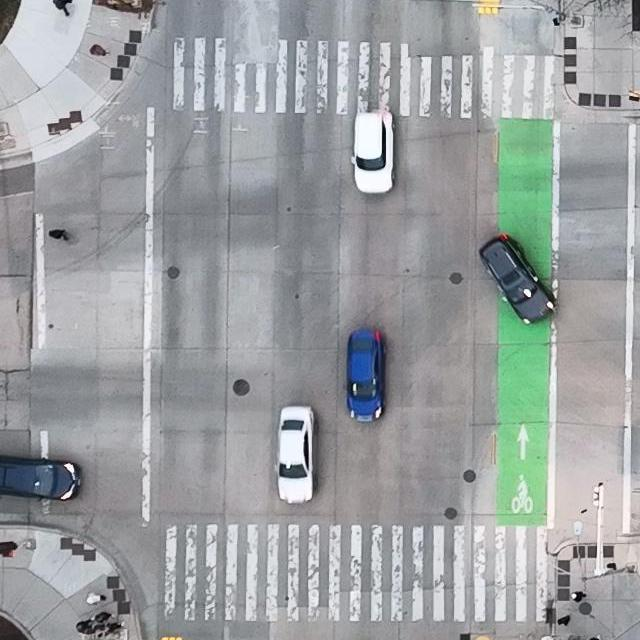car: (478, 233, 556, 325), (342, 328, 387, 422), (275, 405, 316, 504), (0, 455, 83, 501), (351, 110, 396, 194)
